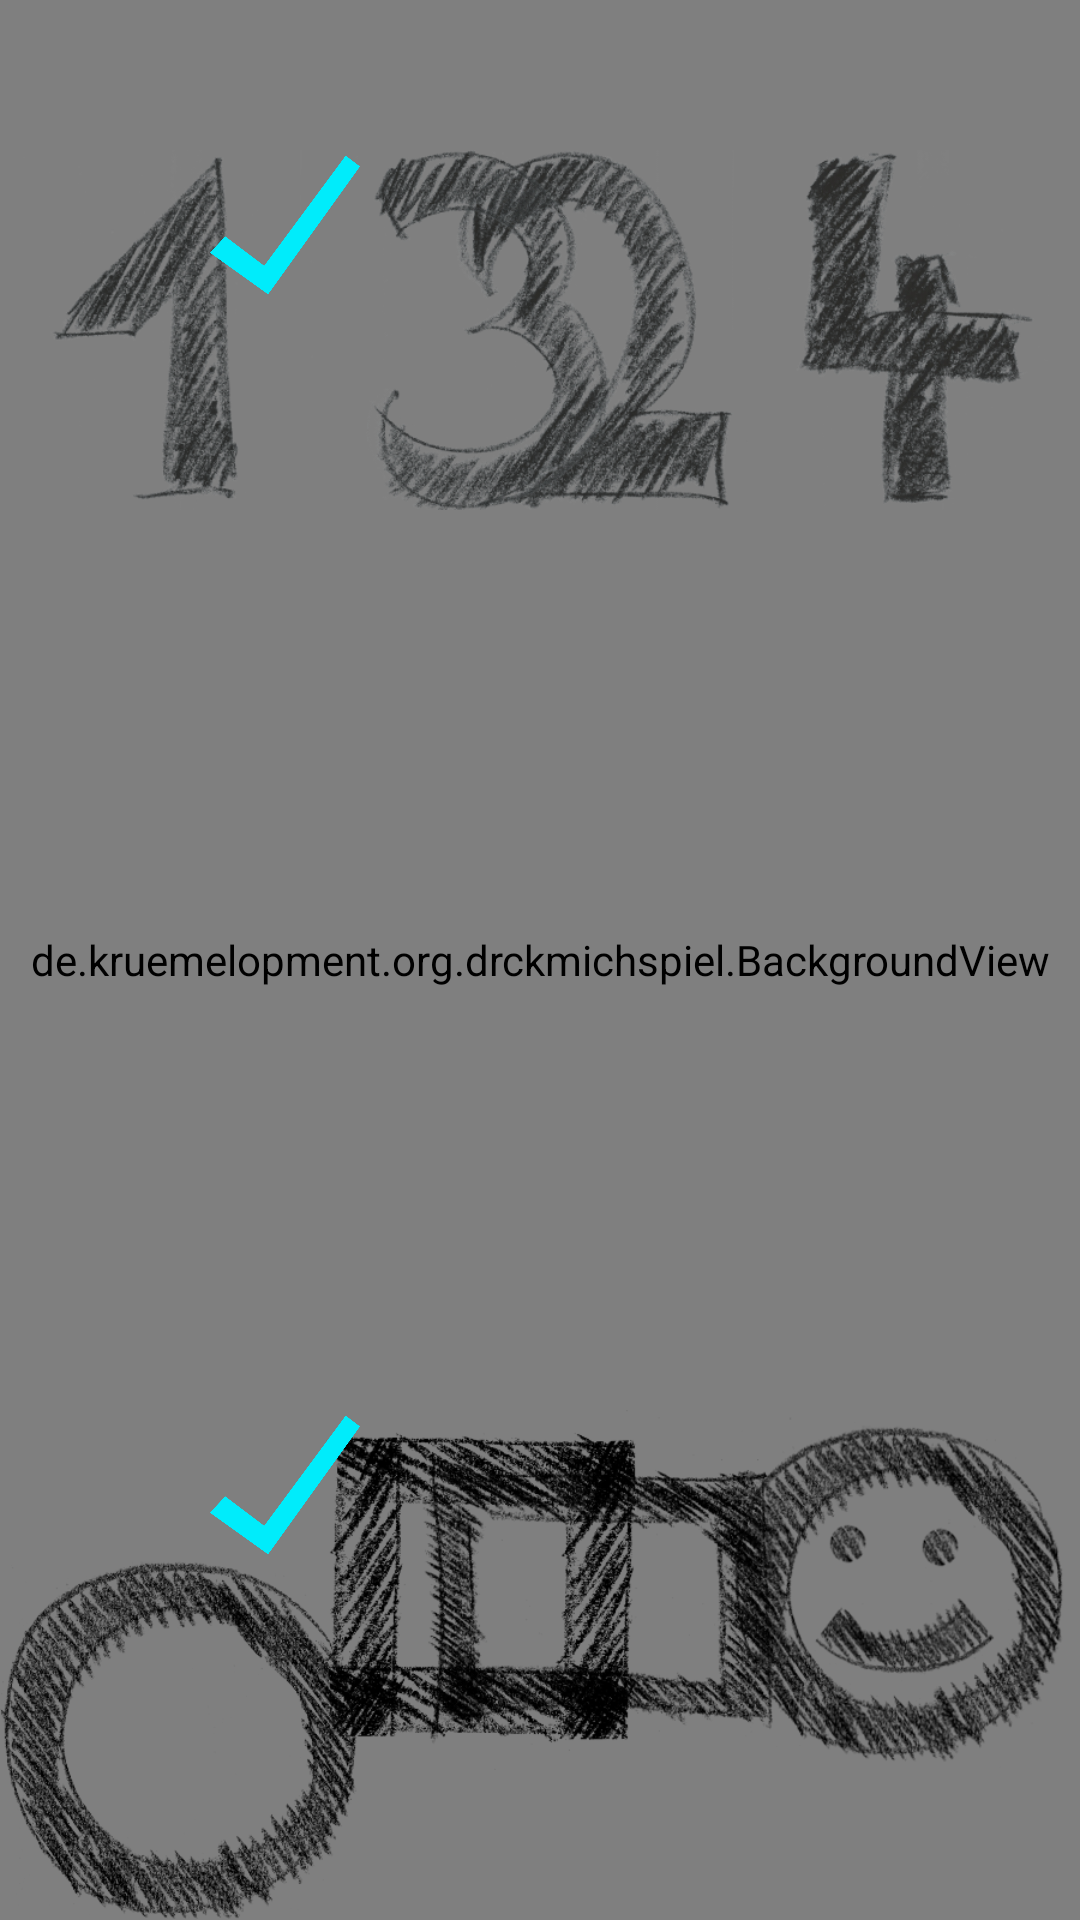

Point at icon controls on the screen. Image size 1080*1920, points as (x=x, y=y).
kreis: (x=180, y=1739)
smiley: (x=891, y=1594)
vier: (x=917, y=328)
